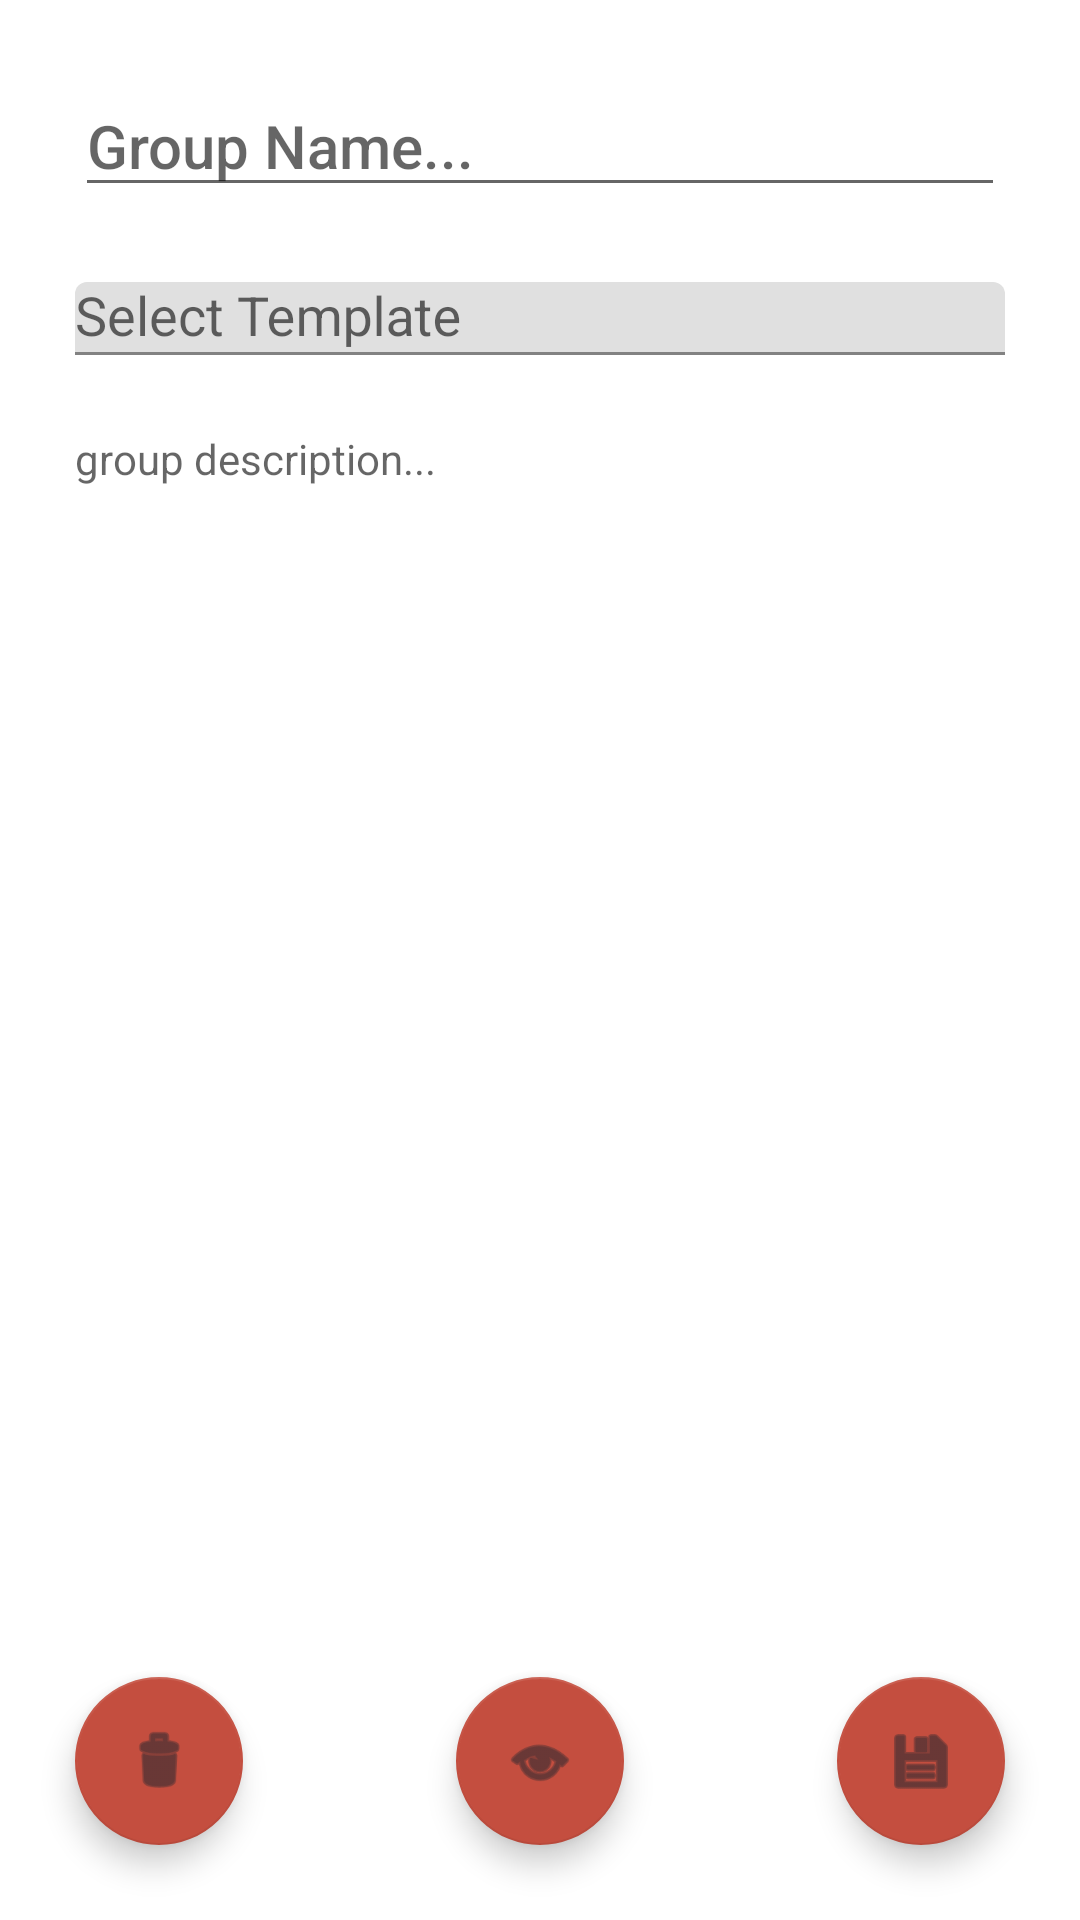

Locate icon controls on the screen. Image size 1080 × 1920, boxes as Rect(x1, y1, x2, y2).
delete: Rect(75, 1677, 243, 1845)
save: Rect(837, 1677, 1005, 1845)
view: Rect(456, 1677, 624, 1845)
